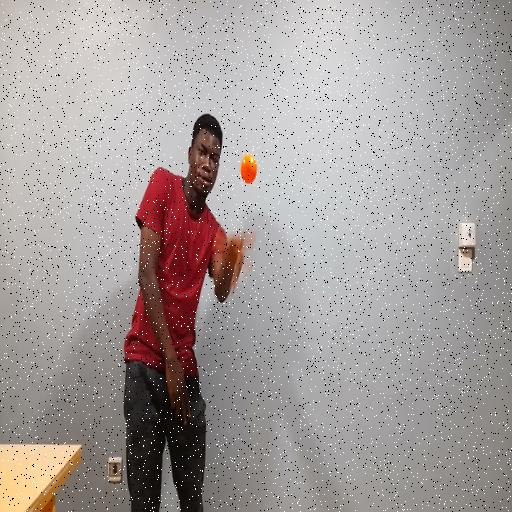plastic-ball: (236, 144, 263, 196)
